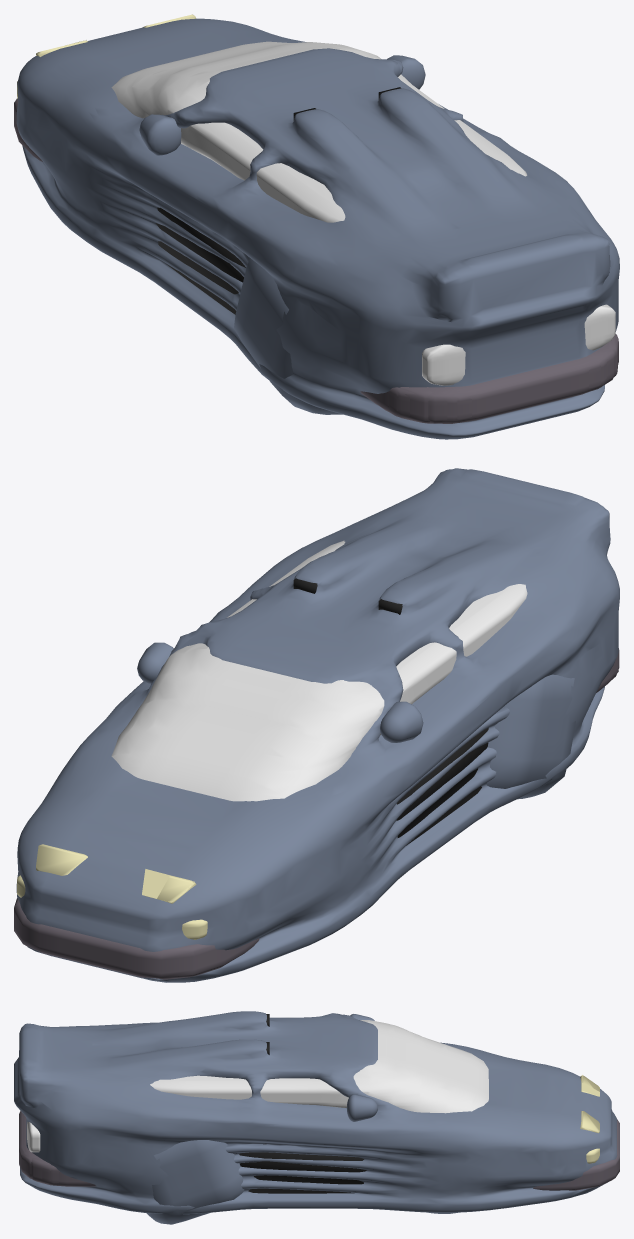
Rendered from metaball-90s-dream-car.fbx.
3 renders of one model, top to bottom at view 1: azimuth 30°, elevation 25°; view 2: azimuth 150°, elevation 25°; view 3: azimuth 270°, elevation 25°, orthographic. The views are drawn at different scales.
Parts seen in each view (by area): view 1: body.048, window.004, fender.002, intake.002, fender.004, red-lights.002, black box.001, mirror.001, mirror; view 2: body.048, window.004, intake.002, fender.004, black box.001, mirror.001, hood light.003, mirror; view 3: body.048, window.004, intake.002, black box.001, fender.004, fender.002, mirror, red-lights.002, hood light.003.
Part boxes in pixels (x1=…): body.048: x1=16, y1=18, x2=619, y2=439; window.004: x1=111, y1=41, x2=527, y2=222; fender.002: x1=360, y1=336, x2=618, y2=423; intake.002: x1=234, y1=258, x2=342, y2=414; fender.004: x1=14, y1=98, x2=618, y2=423; red-lights.002: x1=422, y1=304, x2=615, y2=385; black box.001: x1=155, y1=207, x2=246, y2=314; mirror.001: x1=139, y1=114, x2=181, y2=155; mirror: x1=387, y1=55, x2=425, y2=89; body.048: x1=16, y1=468, x2=619, y2=982; window.004: x1=111, y1=540, x2=527, y2=801; intake.002: x1=486, y1=674, x2=575, y2=799; fender.004: x1=14, y1=648, x2=619, y2=979; black box.001: x1=396, y1=727, x2=488, y2=845; mirror.001: x1=380, y1=701, x2=423, y2=742; hood light.003: x1=36, y1=844, x2=87, y2=875; mirror: x1=137, y1=642, x2=173, y2=683; body.048: x1=14, y1=1011, x2=617, y2=1214; window.004: x1=150, y1=1020, x2=488, y2=1113; intake.002: x1=147, y1=1140, x2=244, y2=1224; black box.001: x1=239, y1=1144, x2=366, y2=1193; fender.004: x1=19, y1=1111, x2=619, y2=1190; fender.002: x1=19, y1=1111, x2=94, y2=1186; mirror: x1=346, y1=1094, x2=377, y2=1121; red-lights.002: x1=27, y1=1121, x2=40, y2=1152; hood light.003: x1=580, y1=1111, x2=599, y2=1133.
Bounding box in the file's own units: 554 × 435 × 1452.
